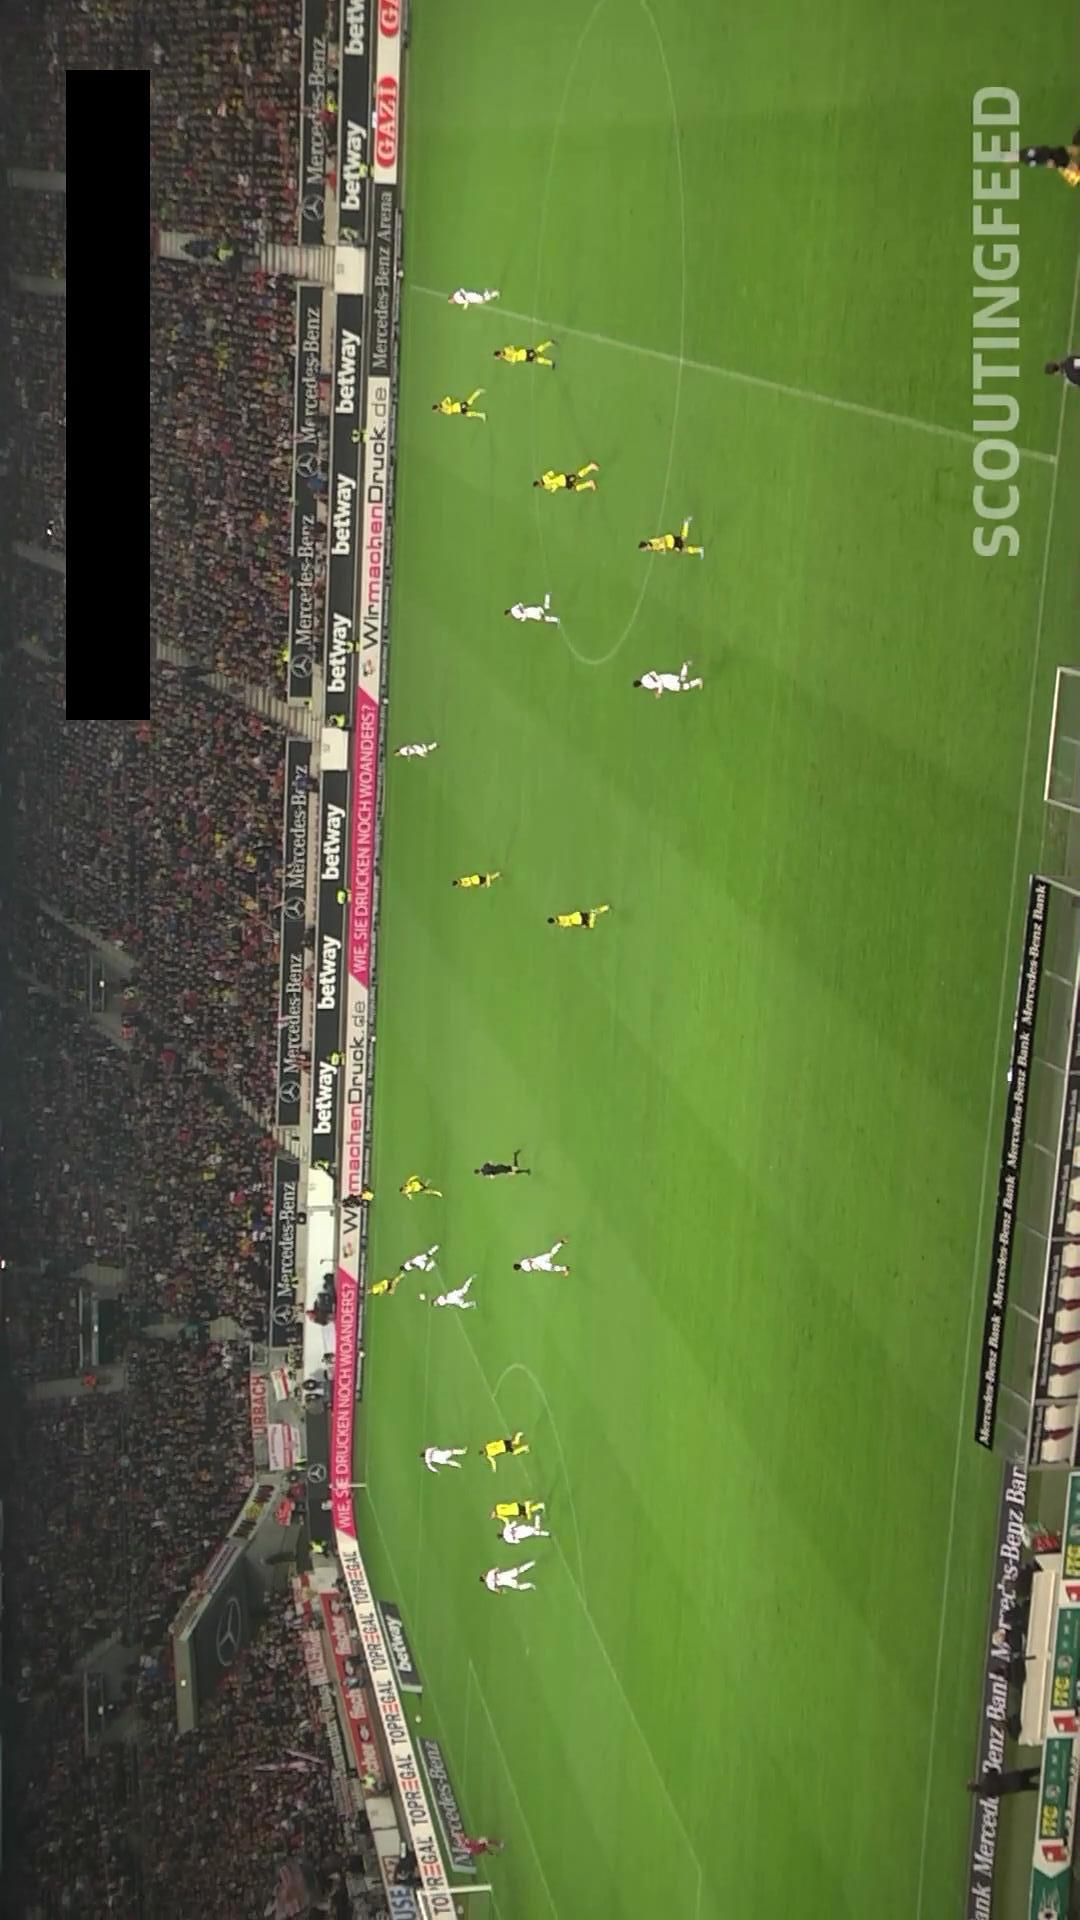ball: (418, 1293, 427, 1301)
goalkeeper: (452, 1830, 505, 1858)
player: (637, 515, 705, 560), (631, 660, 704, 699), (476, 1430, 531, 1473), (512, 1237, 571, 1276), (531, 461, 600, 494), (477, 1559, 537, 1595), (492, 339, 559, 369), (431, 387, 487, 422), (545, 902, 612, 930), (431, 1273, 478, 1310), (486, 1500, 546, 1525), (418, 1445, 468, 1473), (494, 1521, 551, 1544), (503, 603, 559, 626), (447, 286, 500, 310), (363, 1269, 408, 1296), (398, 1174, 443, 1201), (400, 1244, 440, 1273), (450, 870, 503, 890), (392, 741, 440, 761)
referee: (1018, 128, 1080, 187), (473, 1148, 531, 1180), (334, 1187, 376, 1211)
